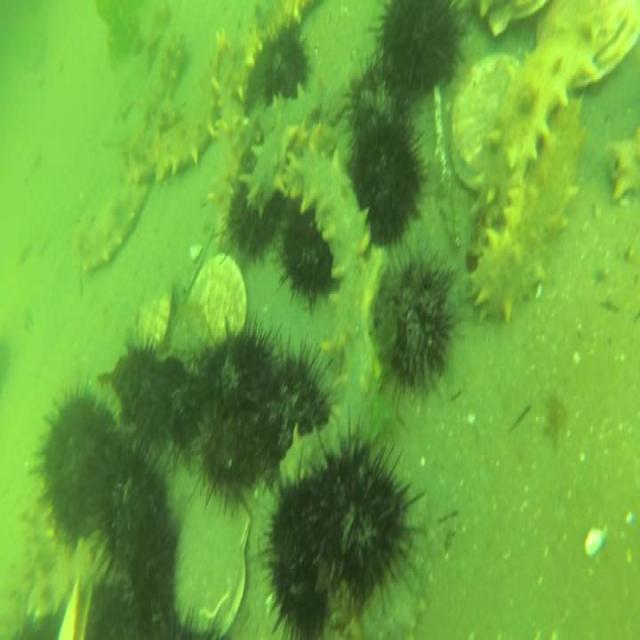echinus: (315, 426, 416, 604), (36, 381, 122, 542), (372, 253, 454, 404), (90, 442, 178, 580), (264, 474, 330, 640), (350, 119, 422, 248), (372, 0, 457, 107), (194, 398, 268, 517), (258, 346, 330, 465), (204, 319, 276, 425), (280, 208, 332, 302), (226, 180, 282, 261), (260, 28, 310, 108), (115, 342, 161, 428), (166, 374, 208, 456)
holothurian: (276, 144, 382, 498), (467, 95, 588, 330), (466, 31, 599, 234), (119, 55, 221, 190), (125, 27, 188, 163), (26, 528, 113, 624), (73, 172, 151, 275), (208, 115, 255, 258), (239, 117, 302, 216), (215, 14, 255, 161), (609, 120, 640, 206)
scallop: (172, 482, 256, 637), (447, 50, 521, 194), (537, 0, 639, 87), (187, 252, 248, 344), (131, 270, 177, 352), (472, 0, 546, 43)
